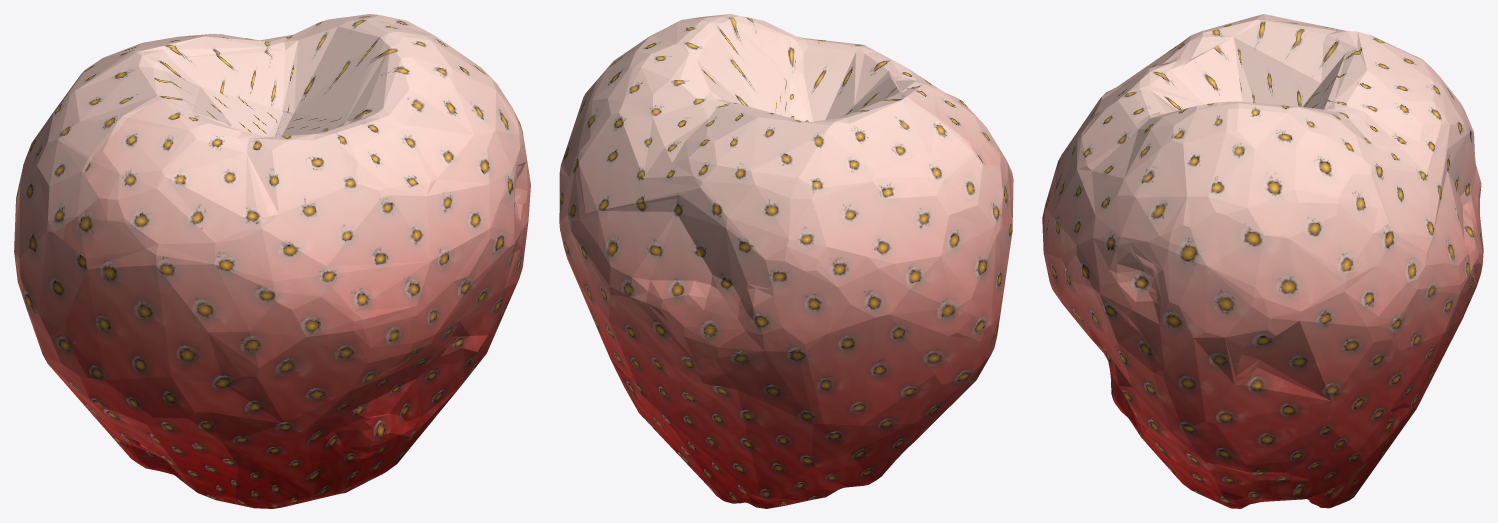
3 views of the same model, side by side, from view 1: azimuth 30°, elevation 25°; view 2: azimuth 150°, elevation 25°; view 3: azimuth 270°, elevation 25° (orthographic). The views are drawn at different scales.
Parts seen in each view (by area): view 1: _002_Meshed; view 2: _002_Meshed; view 3: _002_Meshed.
Boxes of the visible parts, bbox=[...] form: _002_Meshed: bbox=[14, 14, 530, 508]; _002_Meshed: bbox=[559, 14, 1013, 508]; _002_Meshed: bbox=[1042, 14, 1483, 508].
Bounding box in the file's own units: 0.1 × 0.0879 × 0.0956.
1 material, 1 textured.
